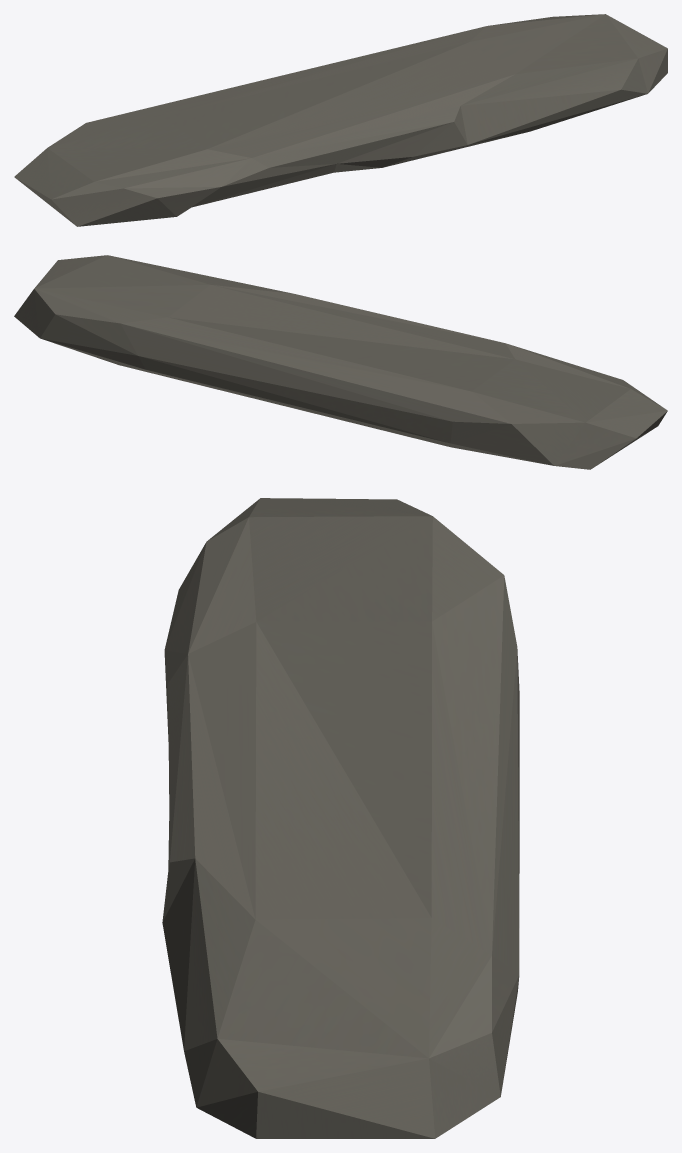
The model's file is Stair_2B.fbx.
3 renders of one model, top to bottom at view 1: azimuth 30°, elevation 25°; view 2: azimuth 150°, elevation 25°; view 3: azimuth 270°, elevation 25°, orthographic. The views are drawn at different scales.
Visible parts, largest first — view 1: Group62003; view 2: Group62003; view 3: Group62003.
Boxes of the visible parts, <box> form: Group62003: <box>14,14,667,226</box>; Group62003: <box>14,255,667,469</box>; Group62003: <box>162,498,519,1138</box>.
Bounding box in the file's own units: 604 × 44.99 × 152.
1 material, 1 textured.
